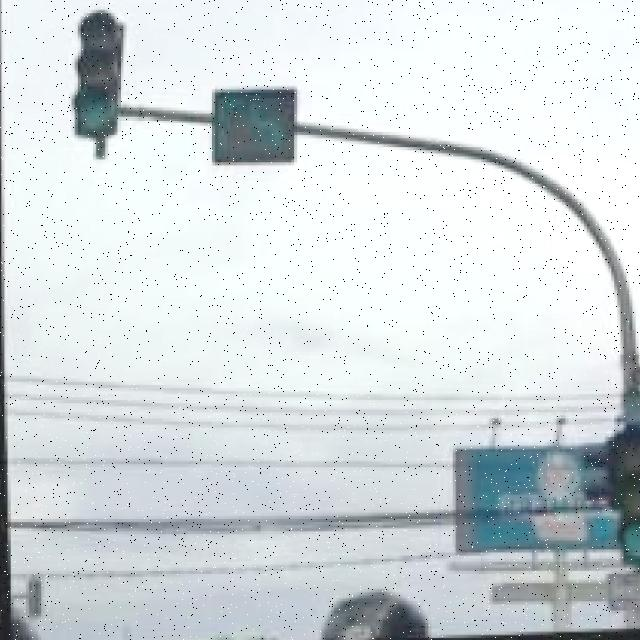Lampu Hijau: (64, 9, 128, 140), (611, 441, 640, 572)
